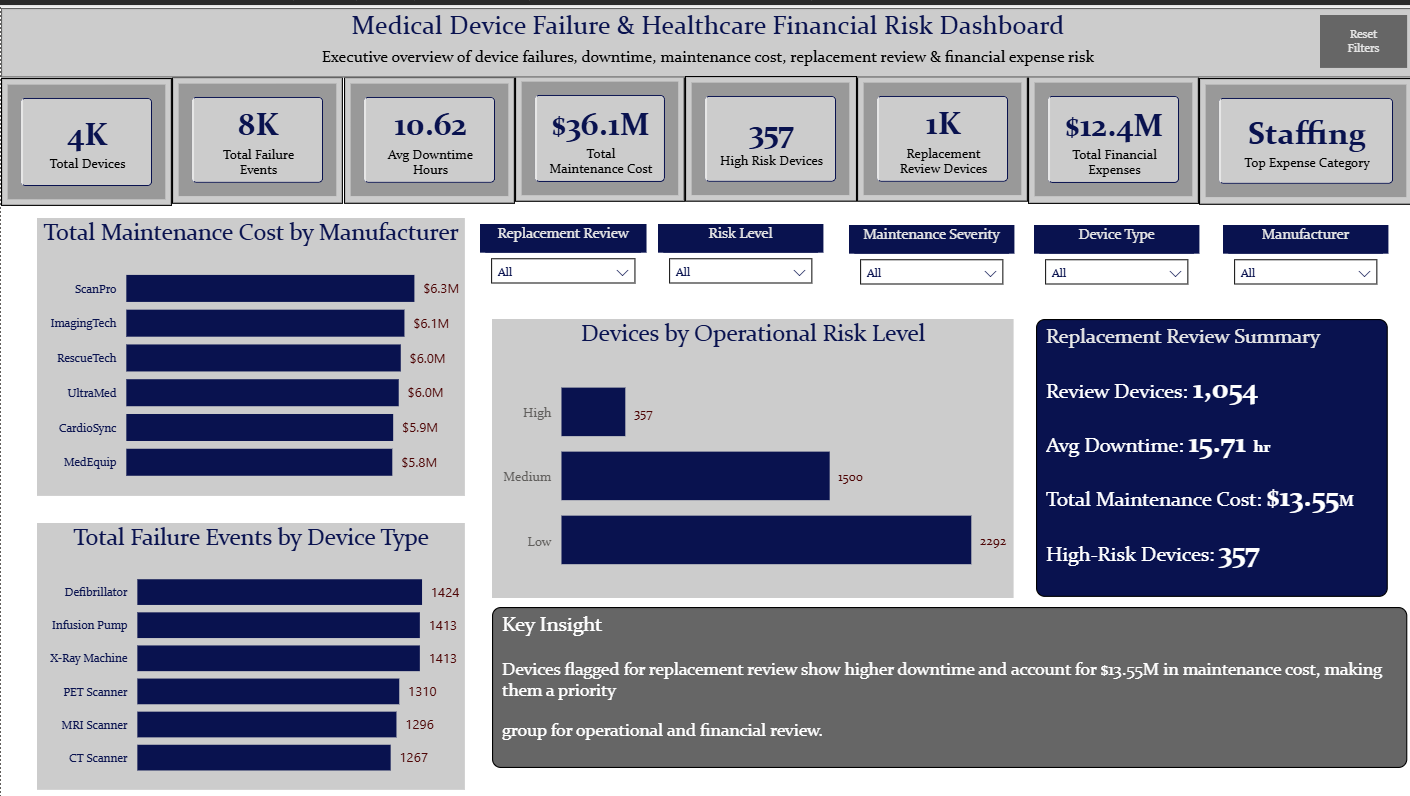

The page's visual inventory and layout, read from the dashboard file:
{"tool":"powerbi","page":{"name":"Executive Overview","canvas":[1280,720],"ordinal":0},"visuals":[{"type":"cardVisual","fields":{"Data":["Measures Table.Total Failure Events"]},"box":[155.4,65.4,155.4,114.5],"z":0},{"type":"cardVisual","fields":{"Data":["Measures Table.Top Expense Category"]},"box":[1086.8,66.5,194,114.5],"z":1000},{"type":"cardVisual","fields":{"Data":["Table.Average Downtime Hours"]},"box":[310.8,65.4,155.4,114.5],"z":2000},{"type":"cardVisual","fields":{"Data":["Measures Table.Total Expense Display"]},"box":[931.4,64.4,155.4,115.5],"z":3000},{"type":"cardVisual","fields":{"Data":["Measures Table.Total Devices"]},"box":[0,66.2,155.1,116.1],"z":4000},{"type":"cardVisual","fields":{"Data":["Table.Devices for Replacement Review"]},"box":[776.2,64.4,155.1,114.3],"z":5000},{"type":"cardVisual","fields":{"Data":["Measures Table.Maintenance Cost Display"]},"box":[466.1,63.5,154.2,115.2],"z":6000},{"type":"textbox","title":"Medical Device Failure & Healthcare Financial Risk Dashboard","box":[0,2.9,1280,62.7],"z":7000},{"type":"cardVisual","fields":{"Data":["Measures Table.High Risk Devices"]},"box":[620.3,64.4,156,114.3],"z":8000},{"type":"clusteredBarChart","title":"Total Failure Events by Device Type","fields":{"Category":["medical_device_failure_cleaned.device_type"],"Y":["Measures Table.Total Failure Events"]},"box":[32.6,469.7,388.1,242.1],"z":9000},{"type":"clusteredBarChart","title":"Total Maintenance Cost by Manufacturer","fields":{"Y":["Measures Table.Total Maintenance Cost"],"Category":["medical_device_failure_cleaned.manufacturer"]},"box":[32.6,193.1,388.1,252.1],"z":10000},{"type":"clusteredBarChart","title":"Devices by Operational Risk Level","fields":{"Category":["medical_device_failure_cleaned.operational_risk_level"],"Y":["Measures Table.Total Devices"]},"box":[445.2,284.7,473.4,253],"z":11000},{"type":"actionButton","box":[1196.2,9.2,78.7,48.1],"z":12000},{"type":"slicer","title":"Device Type","fields":{"Values":["medical_device_failure_cleaned.device_type"]},"box":[936.7,199.5,149.6,59.8],"z":13000},{"type":"slicer","title":"Manufacturer","fields":{"Values":["medical_device_failure_cleaned.manufacturer"]},"box":[1108.1,199.5,149.6,59.8],"z":14000},{"type":"slicer","title":"Maintenance Severity","fields":{"Values":["medical_device_failure_cleaned.maintenance_severity"]},"box":[769,199.5,149.6,59.8],"z":15000},{"type":"textbox","title":"Replacement Review Summary","box":[938.5,284.7,319.2,252.1],"z":16000},{"type":"slicer","title":"Risk Level","fields":{"Values":["medical_device_failure_cleaned.operational_risk_level"]},"box":[595.8,198.6,149.6,59.8],"z":17000},{"type":"slicer","title":"Replacement Review","fields":{"Values":["medical_device_failure_cleaned.replacement_review_flag"]},"box":[434.4,198.6,150.5,60.8],"z":18000},{"type":"textbox","title":"Key Insight","box":[445.2,545.9,829.7,146],"z":19000}]}

Visuals, with their boxes in screenshot pixels (x1, y1, x2, y2), scaled from the page's 1280x720 canvas onto the 1410x796 screenshot:
cardVisual - Measures Table.Total Failure Events: BBox(171, 72, 342, 199)
cardVisual - Measures Table.Top Expense Category: BBox(1197, 74, 1409, 200)
cardVisual - Table.Average Downtime Hours: BBox(342, 72, 514, 199)
cardVisual - Measures Table.Total Expense Display: BBox(1026, 71, 1197, 199)
cardVisual - Measures Table.Total Devices: BBox(0, 73, 171, 202)
cardVisual - Table.Devices for Replacement Review: BBox(855, 71, 1026, 198)
cardVisual - Measures Table.Maintenance Cost Display: BBox(513, 70, 683, 198)
"Medical Device Failure & Healthcare Financial Risk Dashboard" textbox: BBox(0, 3, 1409, 73)
cardVisual - Measures Table.High Risk Devices: BBox(683, 71, 855, 198)
"Total Failure Events by Device Type" clusteredBarChart: BBox(36, 519, 463, 787)
"Total Maintenance Cost by Manufacturer" clusteredBarChart: BBox(36, 213, 463, 492)
"Devices by Operational Risk Level" clusteredBarChart: BBox(490, 315, 1012, 594)
actionButton: BBox(1318, 10, 1404, 63)
"Device Type" slicer: BBox(1032, 221, 1197, 287)
"Manufacturer" slicer: BBox(1221, 221, 1385, 287)
"Maintenance Severity" slicer: BBox(847, 221, 1012, 287)
"Replacement Review Summary" textbox: BBox(1034, 315, 1385, 593)
"Risk Level" slicer: BBox(656, 220, 821, 286)
"Replacement Review" slicer: BBox(479, 220, 644, 287)
"Key Insight" textbox: BBox(490, 604, 1404, 765)
